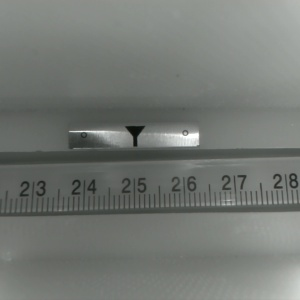2: (18, 181, 30, 197), (272, 173, 283, 189), (170, 176, 180, 192), (70, 180, 80, 195), (221, 175, 231, 190), (120, 178, 130, 193)
3: (35, 181, 45, 196)
4: (86, 179, 96, 194)
5: (137, 177, 146, 193)
6: (186, 176, 196, 192)
7: (237, 175, 246, 190)
8: (288, 172, 298, 188)
finger: (123, 126, 145, 147)
